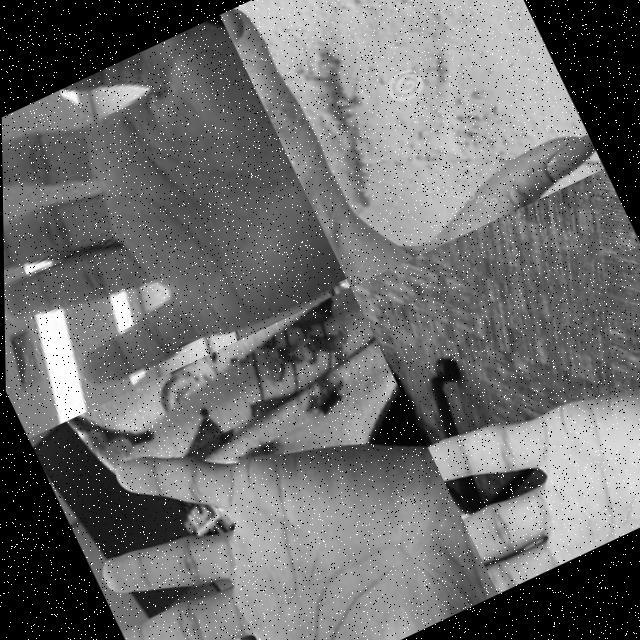no-gloves: (0, 14, 350, 431), (48, 334, 496, 640), (219, 0, 605, 286), (400, 276, 640, 594)
